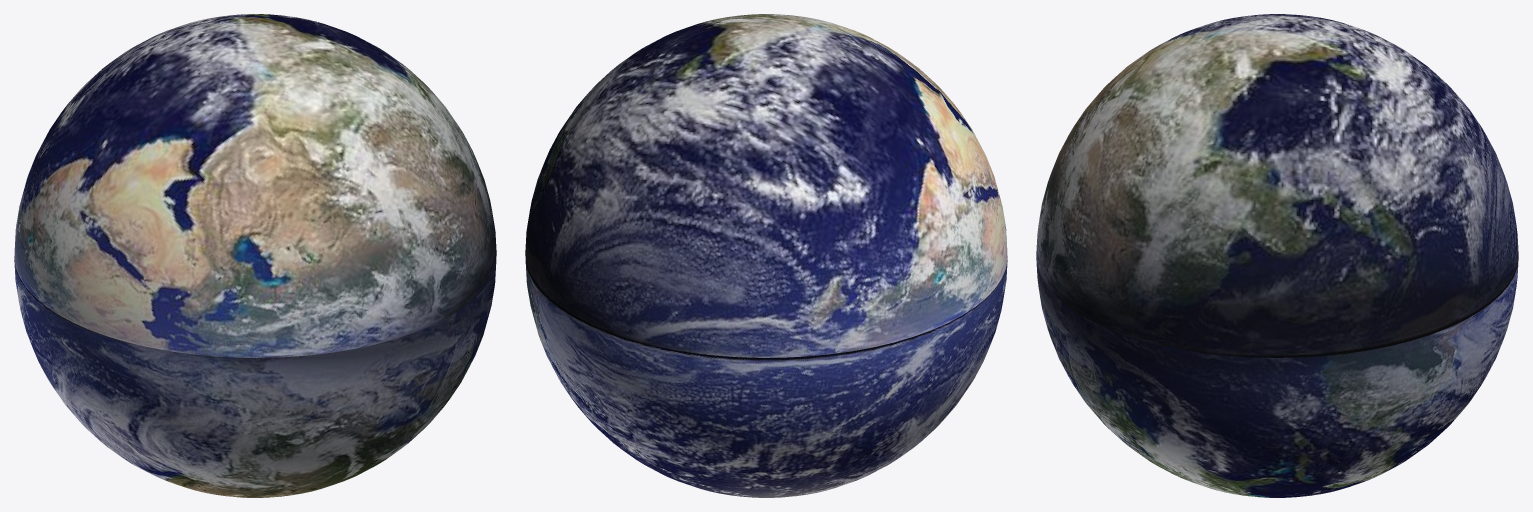
Rendered from badEarth.obj.
The picture shows the model from 3 angles, left to right: view 1: azimuth 30°, elevation 25°; view 2: azimuth 150°, elevation 25°; view 3: azimuth 270°, elevation 25°; orthographic projection.
Parts seen in each view (by area): view 1: Sphere; view 2: Sphere; view 3: Sphere.
Boxes of the visible parts, <box> form: Sphere: <box>14,14,496,497</box>; Sphere: <box>525,14,1007,497</box>; Sphere: <box>1036,14,1518,497</box>.
Size of the model in its own units: 1.98 by 2 by 1.98.
1 material, 1 textured.
